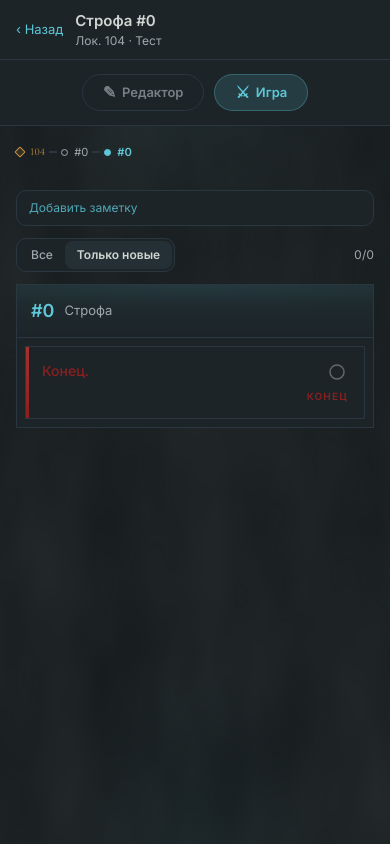
Test case: LocationPage: research end await-ack modal › E5 timeout (AbortError) → error-state с «Сервер не отвечает»
The width and height of the screenshot is (390, 844).
Click the text "Конец.": (66, 370) [42, 362, 89, 379]
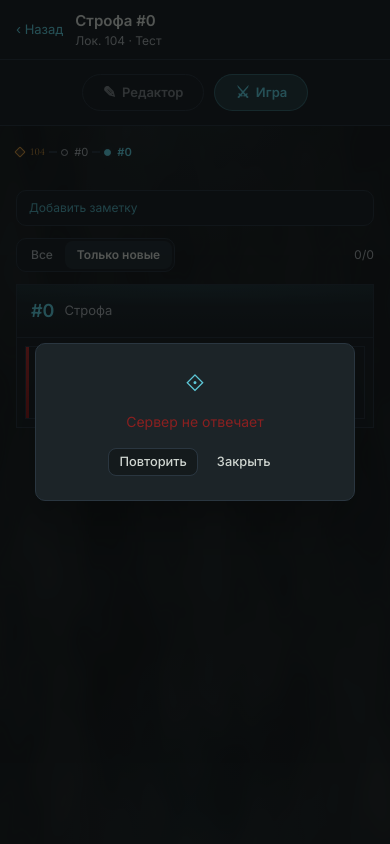
Check: the text "Сервер не отвечает" is shown, box [126, 412, 264, 432]
